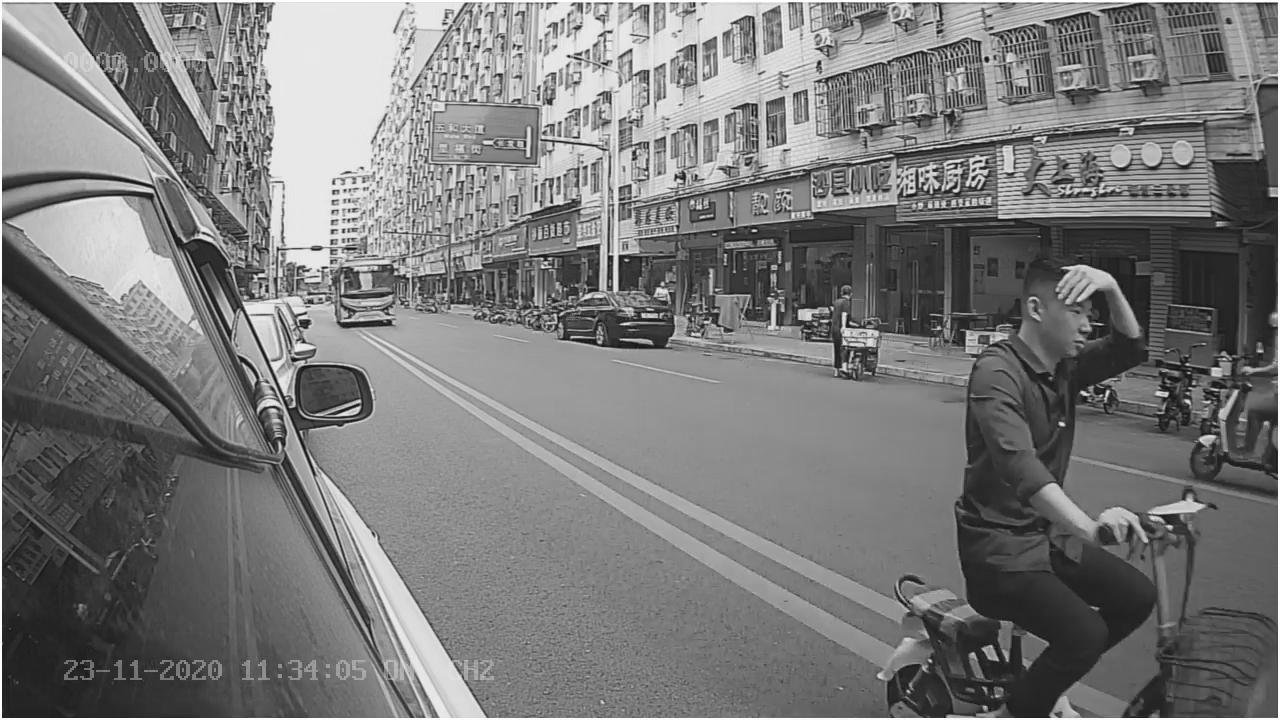person: (965, 250, 1173, 544)
